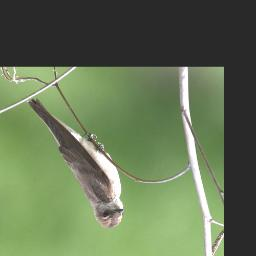Swallow: (25, 97, 125, 230)
